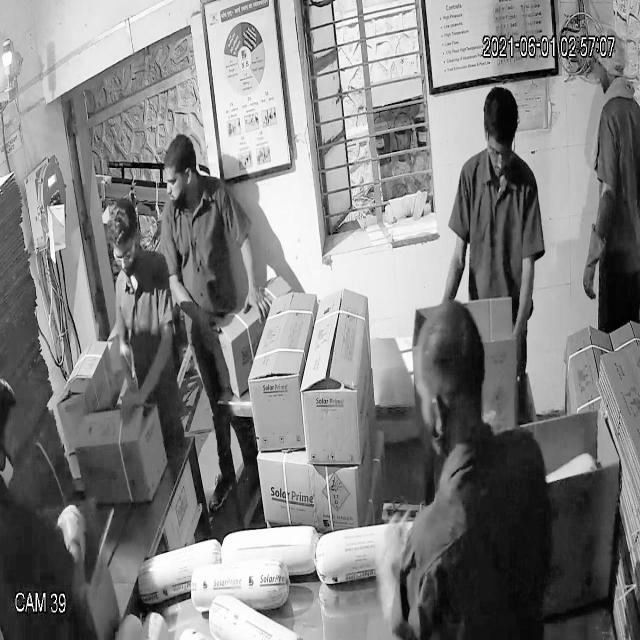glasses: (111, 237, 141, 276)
